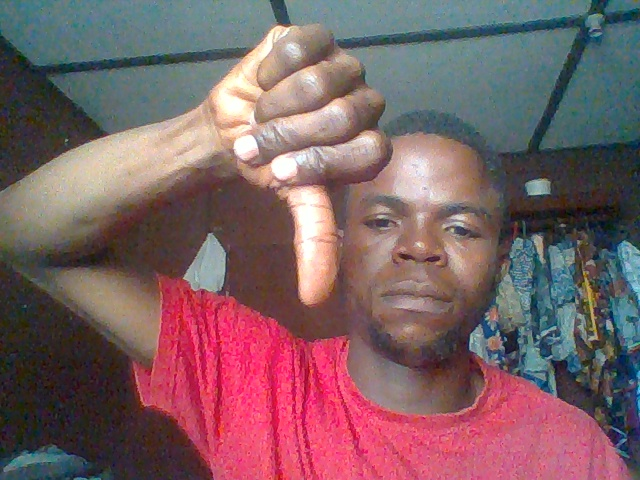Thumbdown: (195, 22, 405, 310)
